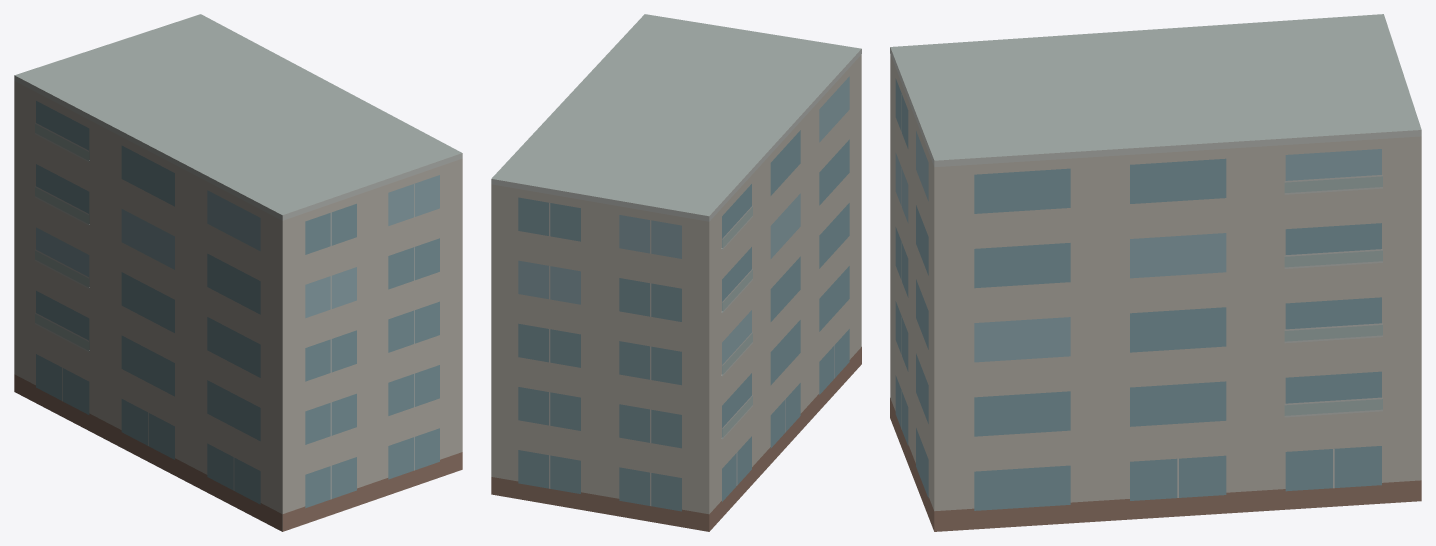
The model's file is survey-upis-32935862.glb.
3 views of the same model, side by side, from view 1: azimuth 30°, elevation 25°; view 2: azimuth 150°, elevation 25°; view 3: azimuth 270°, elevation 25° (orthographic). The views are drawn at different scales.
Parts seen in each view (by area): view 1: survey-upis-32935862.tmp; view 2: survey-upis-32935862.tmp; view 3: survey-upis-32935862.tmp.
Part boxes in pixels (box(x1,y1,x2,y2)): survey-upis-32935862.tmp: box(14, 14, 462, 531); survey-upis-32935862.tmp: box(491, 14, 861, 531); survey-upis-32935862.tmp: box(890, 14, 1421, 531).
Size of the model in its own units: 11.88 by 14 by 18.18.
